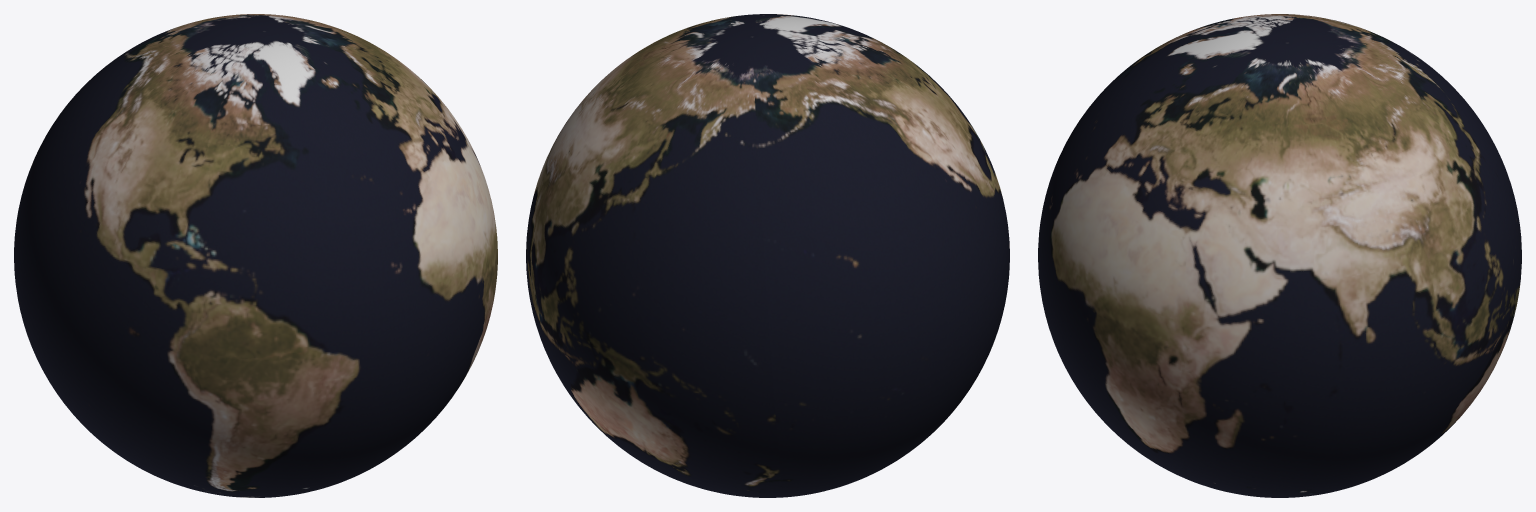
The model's file is earth.gltf.
The picture shows the model from 3 angles, left to right: view 1: azimuth 30°, elevation 25°; view 2: azimuth 150°, elevation 25°; view 3: azimuth 270°, elevation 25°; orthographic projection.
Parts seen in each view (by area): view 1: Earth_Diffuse_6K; view 2: Earth_Diffuse_6K; view 3: Earth_Diffuse_6K.
Boxes of the visible parts, box(x1,y1,x2,y2) form: Earth_Diffuse_6K: box(14, 14, 497, 497); Earth_Diffuse_6K: box(526, 14, 1009, 497); Earth_Diffuse_6K: box(1038, 14, 1521, 497).
Size of the model in its own units: 6.37 by 6.37 by 6.37.
Materials: 1 (1 with a texture image).
